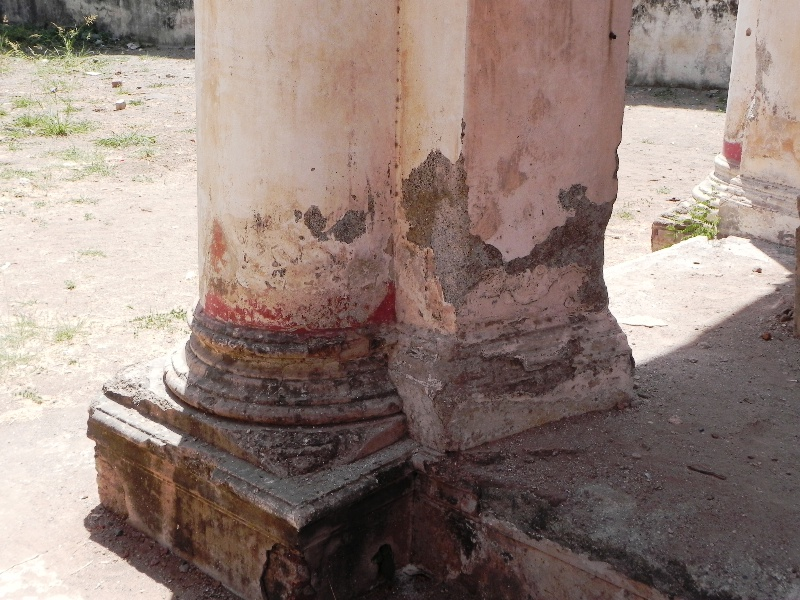Spalling: (396, 143, 620, 316), (297, 182, 377, 258)
